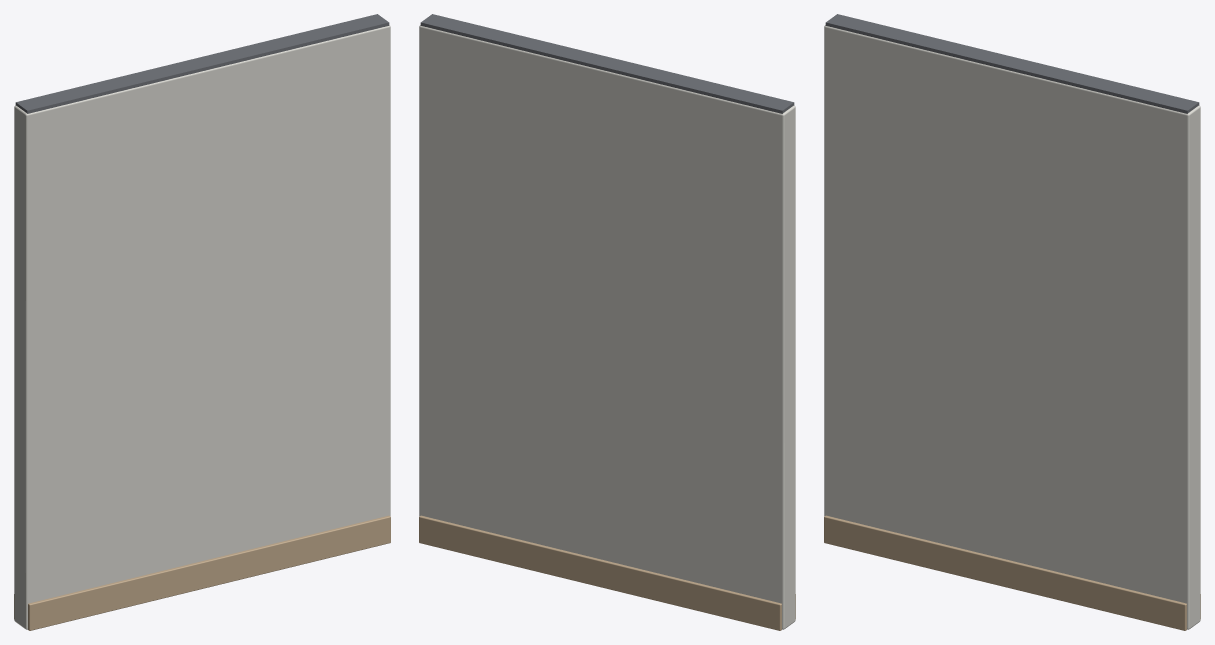
File: human-anatomy-and-education-kit-wall-panel-2m-5041a128__38976.glb
3 renders of one model, left to right at view 1: azimuth 30°, elevation 25°; view 2: azimuth 150°, elevation 25°; view 3: azimuth 330°, elevation 25°, orthographic.
Visible parts, largest first — view 1: wall-panel-2m; view 2: wall-panel-2m; view 3: wall-panel-2m.
Boxes of the visible parts, x1,y1,x2,y2 form: wall-panel-2m: (14, 14, 390, 630); wall-panel-2m: (419, 14, 795, 630); wall-panel-2m: (824, 14, 1200, 630).
Size of the model in its own units: 2 by 2.71 by 0.1501.
